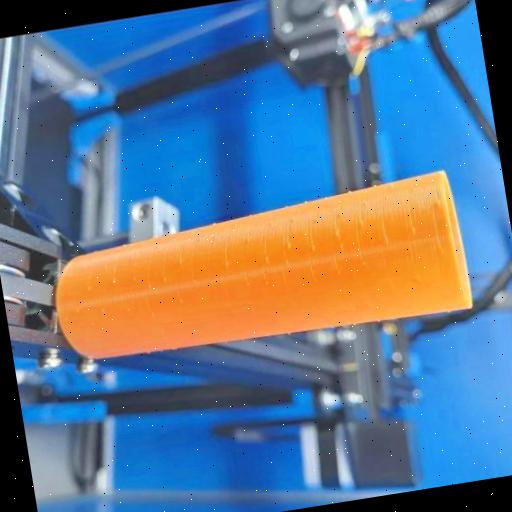blobs: (408, 224, 418, 238), (332, 265, 344, 276), (310, 242, 320, 254), (222, 257, 232, 269), (84, 280, 94, 292), (262, 252, 271, 264), (382, 234, 392, 244), (128, 272, 138, 282), (160, 274, 170, 284), (174, 256, 184, 266), (357, 218, 366, 228), (338, 242, 346, 252), (284, 239, 292, 249), (434, 196, 442, 206), (382, 192, 390, 202), (124, 304, 132, 314), (110, 274, 118, 284), (98, 303, 106, 313), (282, 257, 290, 266), (336, 209, 344, 218), (438, 245, 446, 254), (312, 213, 320, 222), (244, 236, 252, 244), (289, 216, 297, 224), (146, 280, 152, 290), (333, 228, 340, 236), (359, 258, 366, 266), (262, 278, 270, 285), (149, 310, 156, 318), (103, 264, 110, 271), (410, 186, 416, 193), (74, 306, 81, 312)
